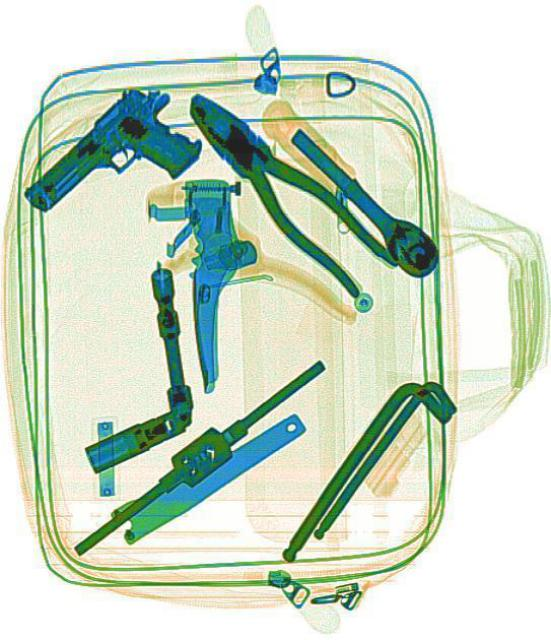Gun: (18, 67, 210, 267)
Pliers: (167, 72, 400, 308)
